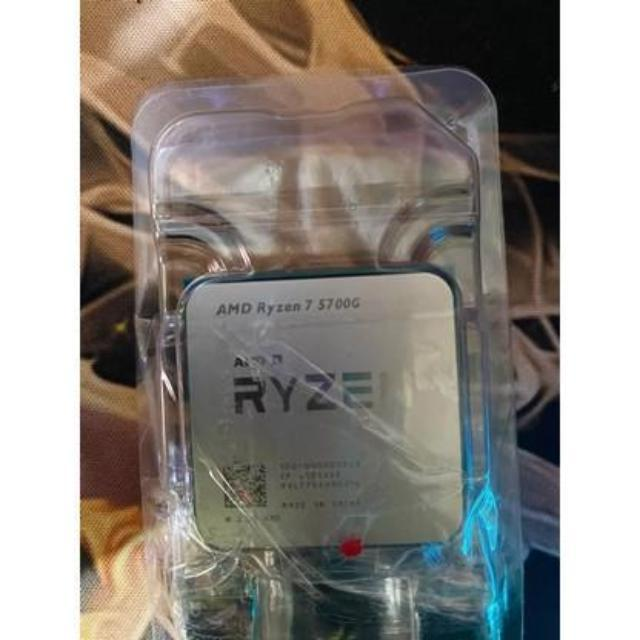CPU: (178, 274, 466, 552)
